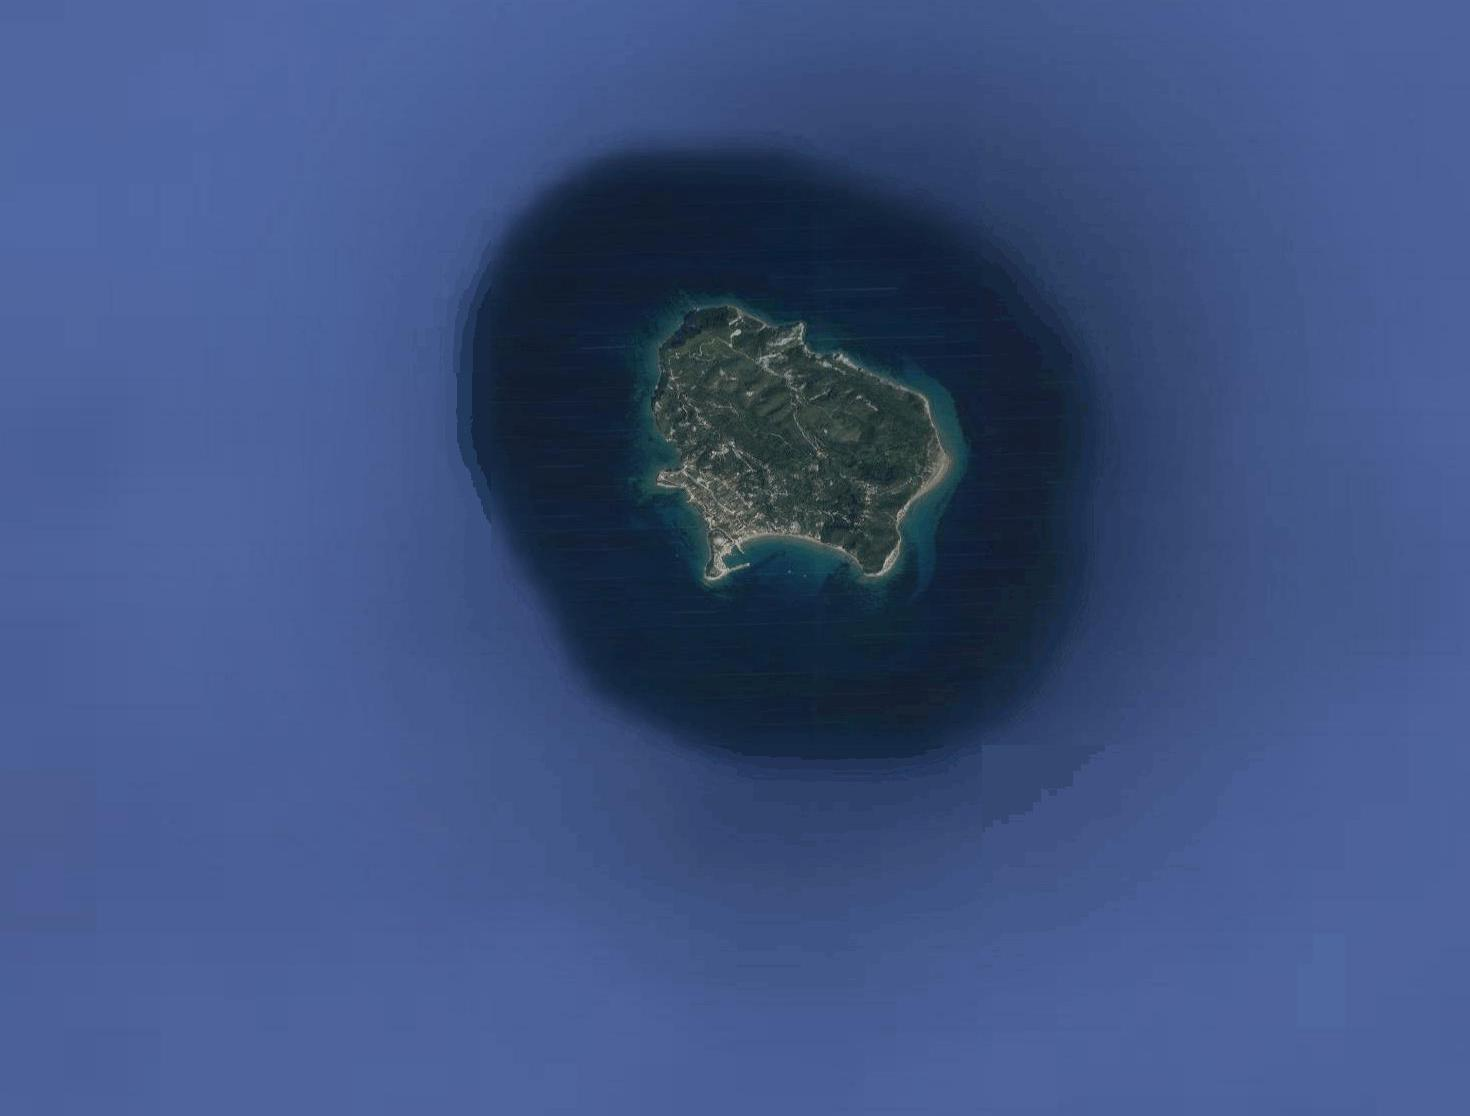harbor: (714, 540, 749, 576)
